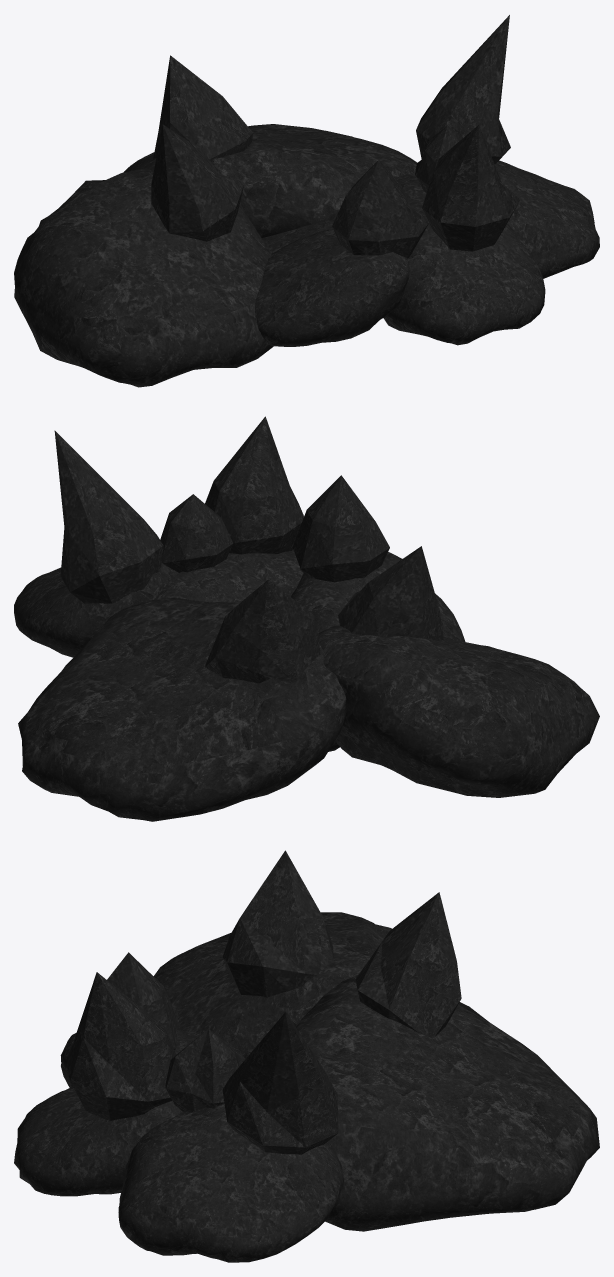
The model's file is mine_holder.glb.
3 renders of one model, top to bottom at view 1: azimuth 30°, elevation 25°; view 2: azimuth 150°, elevation 25°; view 3: azimuth 270°, elevation 25°, orthographic. The views are drawn at different scales.
Visible parts, largest first — view 1: Ore rock holder; view 2: Ore rock holder; view 3: Ore rock holder.
Part boxes in pixels (box(x1,y1,x2,y2)): Ore rock holder: box(14, 15, 599, 387); Ore rock holder: box(14, 416, 599, 821); Ore rock holder: box(14, 850, 599, 1262).
Size of the model in its own units: 116 by 50.58 by 99.58.
Materials: 1 (1 with a texture image).
